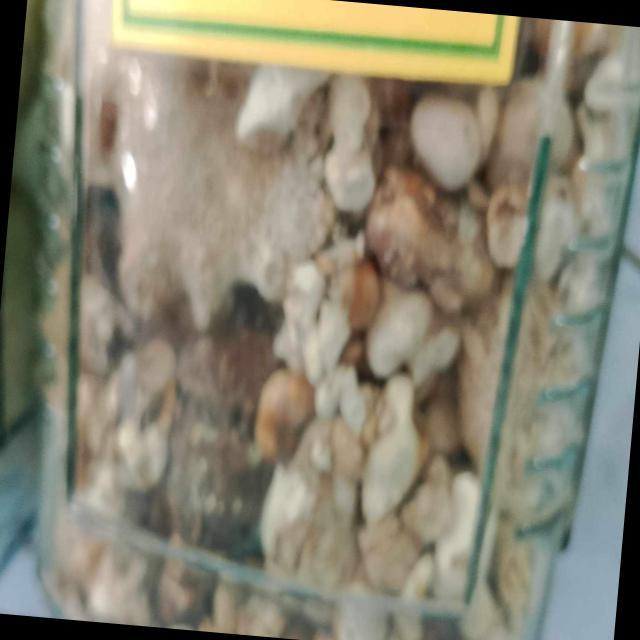General: (3, 2, 637, 637), (240, 67, 583, 628)
Sharps: (457, 130, 557, 610)
